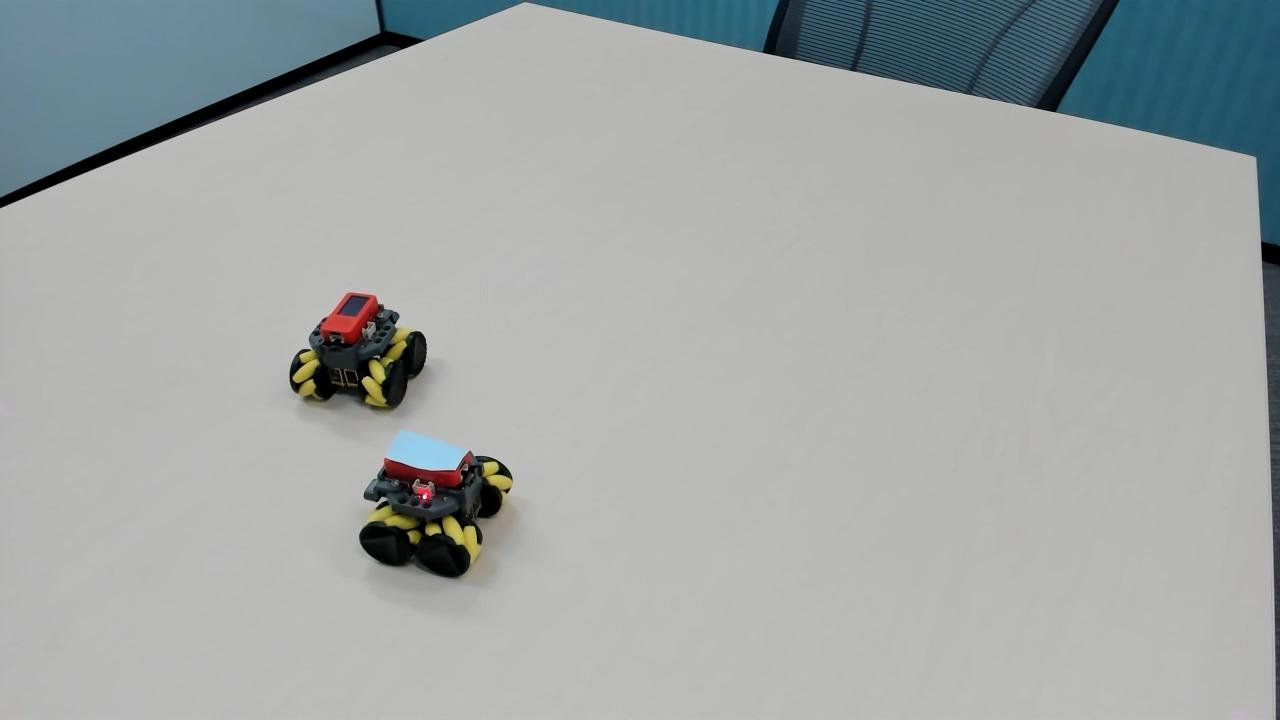B-Robot: (356, 426, 518, 594)
R-Robot: (275, 279, 431, 421)
